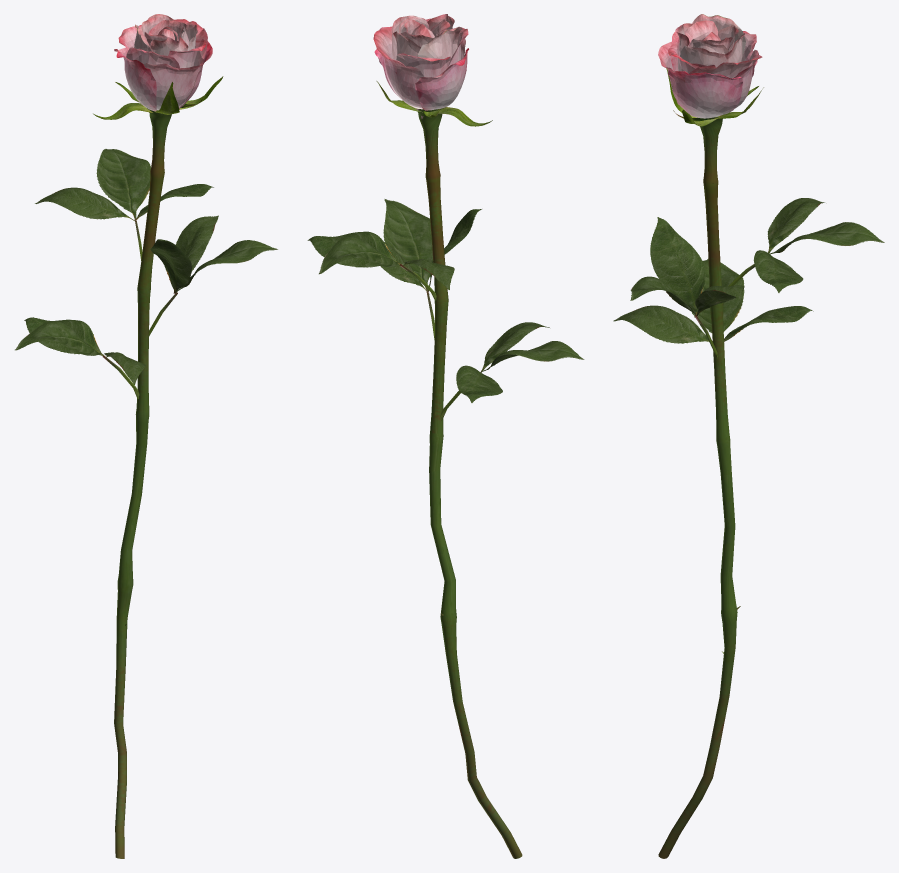
3 views of the same model, side by side, from view 1: azimuth 30°, elevation 25°; view 2: azimuth 150°, elevation 25°; view 3: azimuth 270°, elevation 25° (orthographic). The views are drawn at different scales.
Visible parts, largest first — view 1: AM108_068_13_AM108_068_01_0; view 2: AM108_068_13_AM108_068_01_0; view 3: AM108_068_13_AM108_068_01_0.
Boxes of the visible parts, bbox=[...] form: AM108_068_13_AM108_068_01_0: bbox=[15, 14, 277, 858]; AM108_068_13_AM108_068_01_0: bbox=[307, 14, 584, 858]; AM108_068_13_AM108_068_01_0: bbox=[613, 14, 884, 858].
Size of the model in its own units: 6.49 by 21.35 by 6.09.
1 material, 1 textured.
